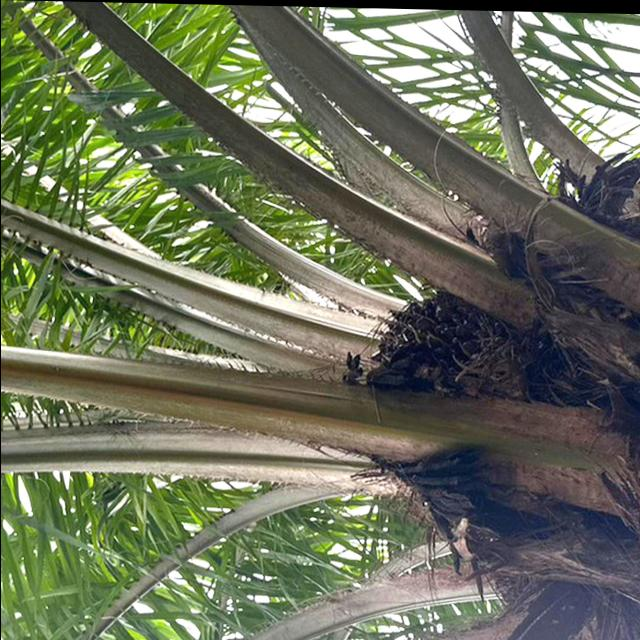almost: (356, 282, 522, 413)
